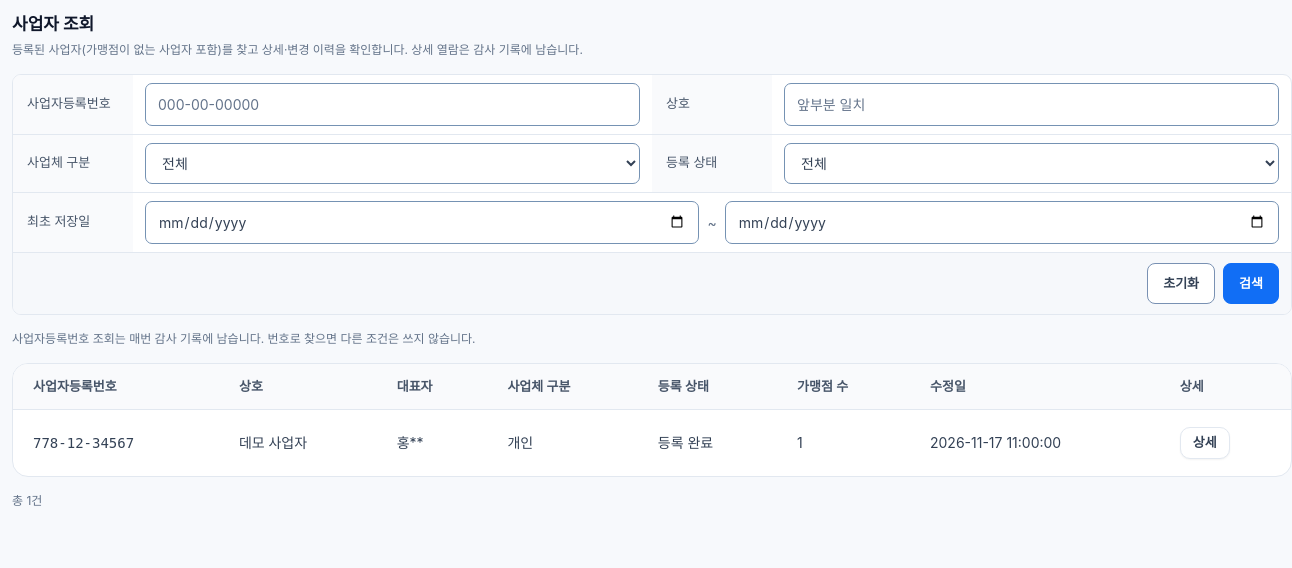
Scenario: MERCHANT-IA-001 B2 — 사업자 목록 › ⑦ 번호 조회 결과: 사업자등록번호·상호·등록 상태·상세 4열만, "—" 칸 없음; 0건은 같은 4열 빈 행; 번호는 번호 조회 요청에만
Expected: the table named "사업자 목록" is shown, [13, 364, 1291, 476]
Click the field labelled "사업자등록번호" at (392, 104), box [145, 82, 640, 126]
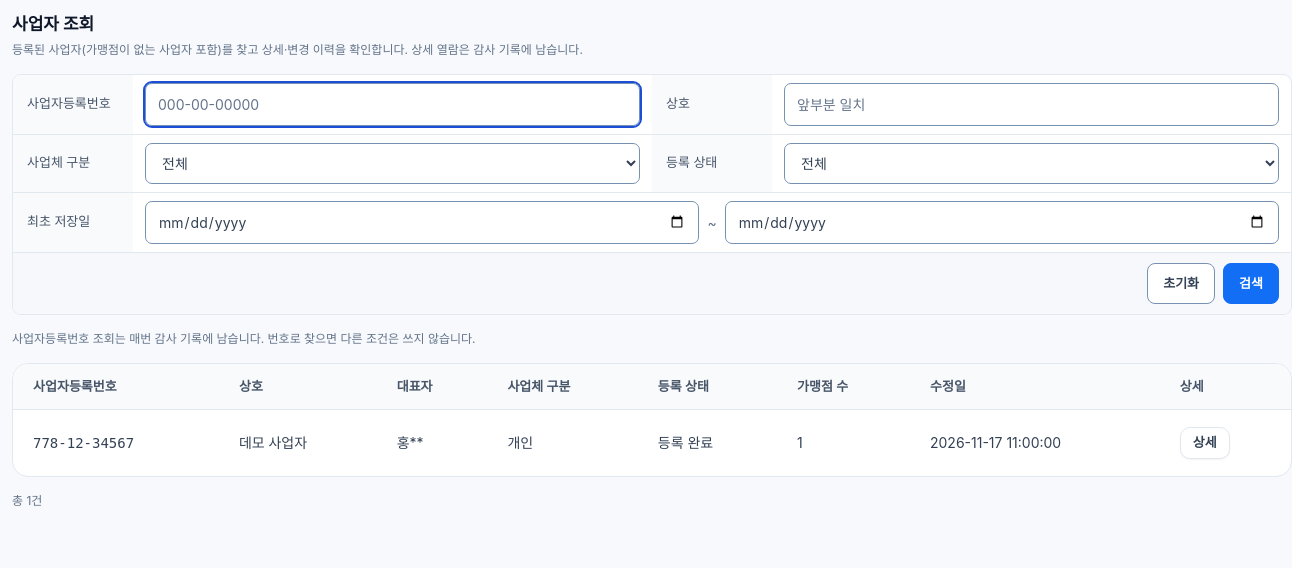
Type keys "7781234560"
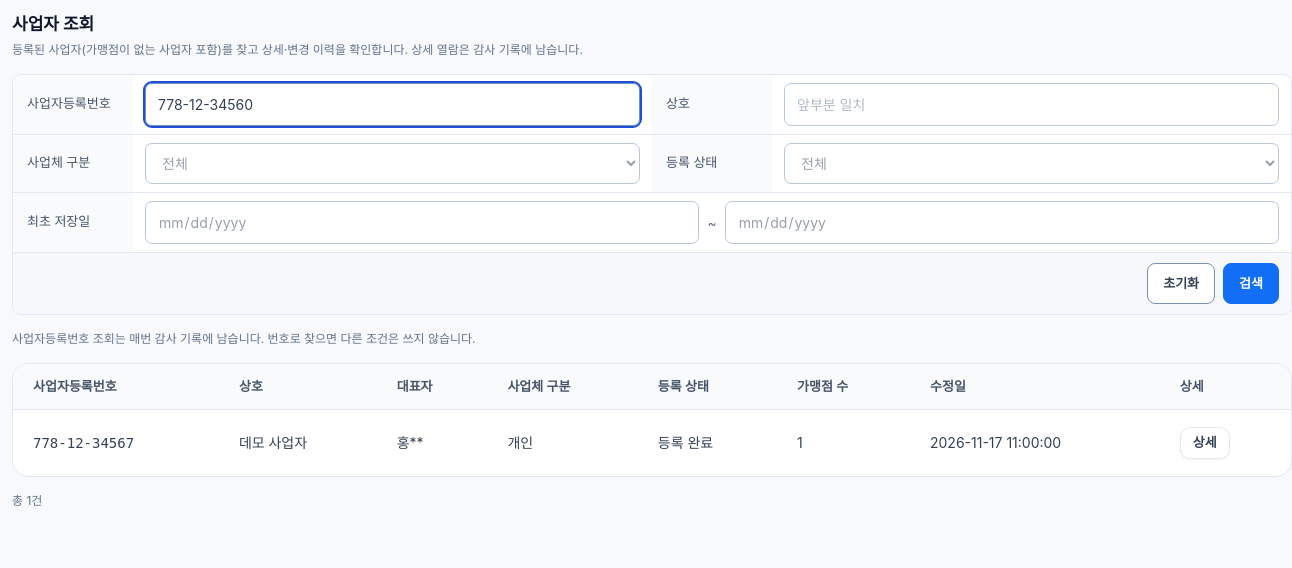
Click the button "검색" at (1251, 283), box [1223, 262, 1279, 304]
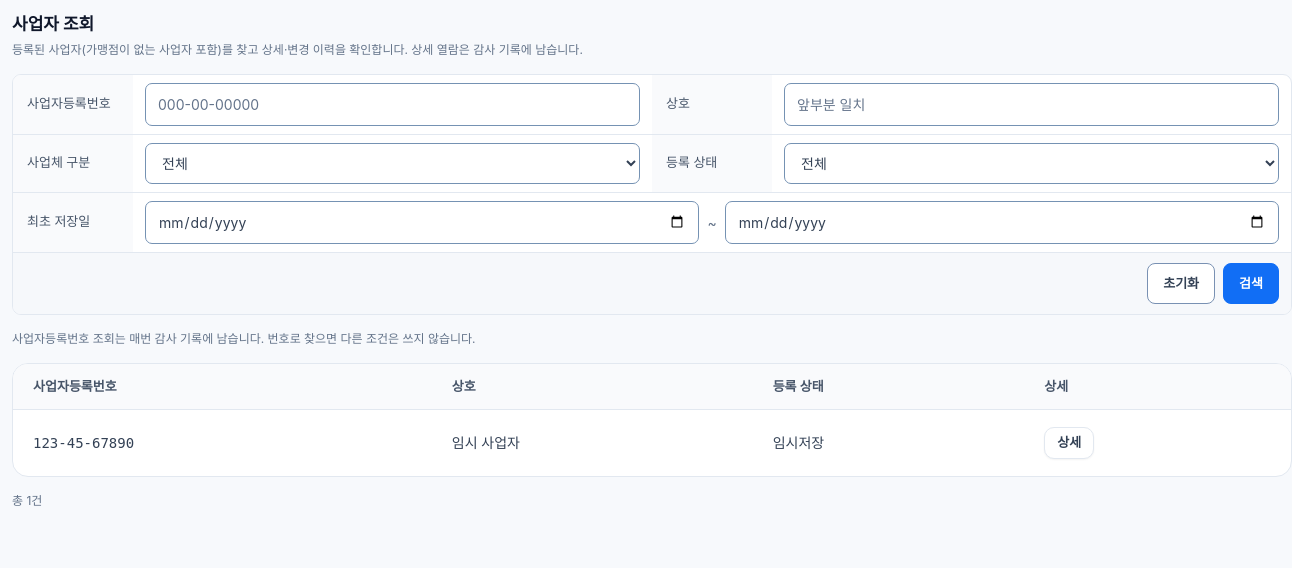
Expected: the table named "사업자 목록" does not show "—", [13, 364, 1291, 476]
Now the cells read "123-45-67890", "임시 사업자", "임시저장", "상세", in this order, box [13, 409, 432, 476]; [432, 409, 753, 476]; [753, 409, 1024, 476]; [1024, 409, 1291, 476]
Now the button with aria-label "임시 사업자 상세" is shown, box [1044, 427, 1094, 459]
Click the field labelled "사업자등록번호" at (392, 104), box [145, 82, 640, 126]
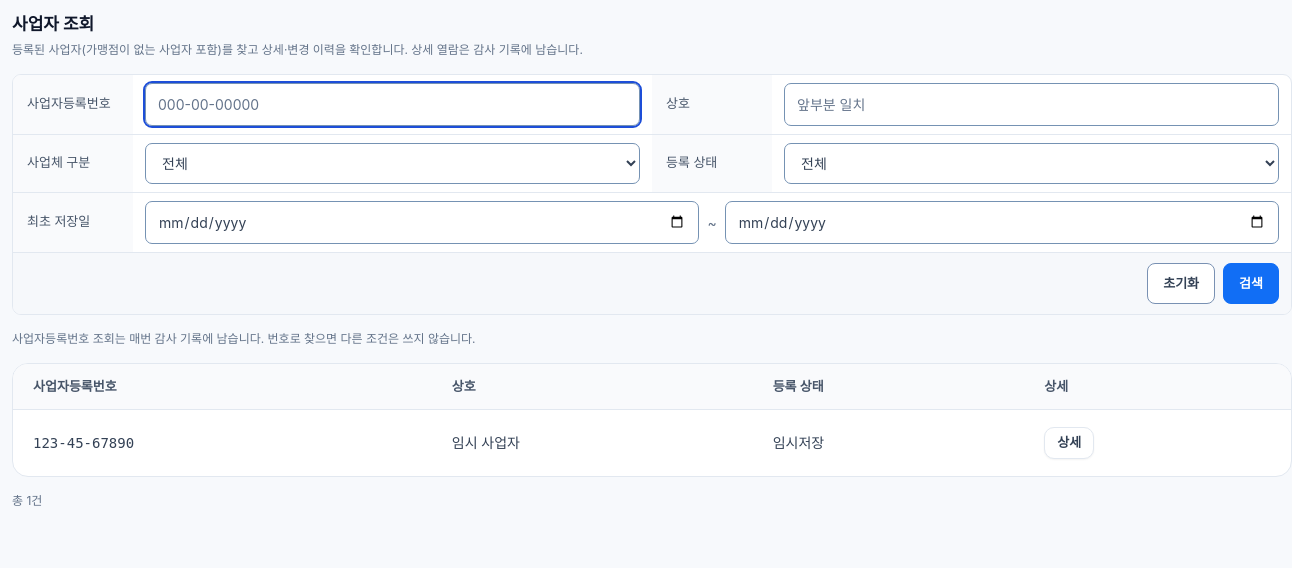
Type keys "7781234560"
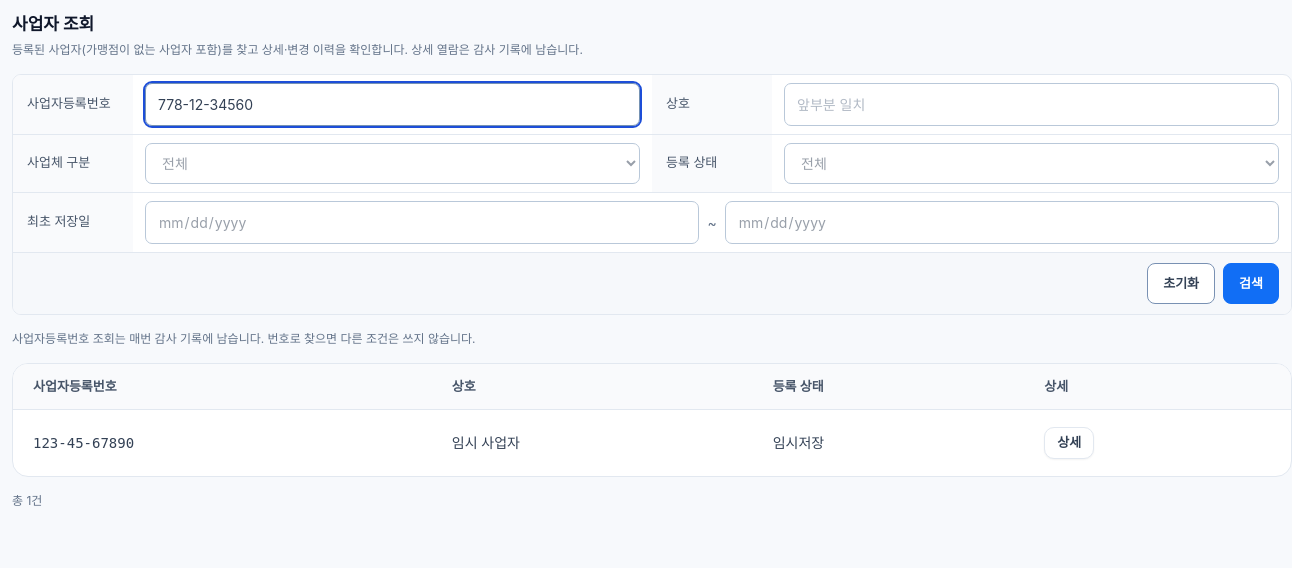
Click the button "검색" at (1251, 283), box [1223, 262, 1279, 304]
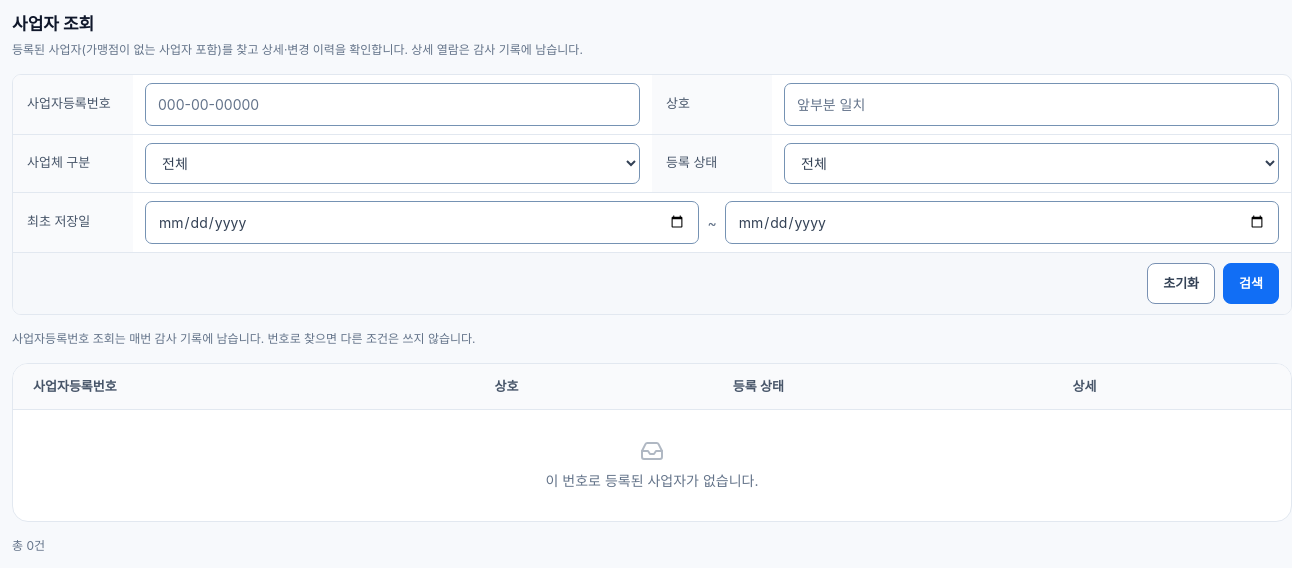
Now the text "이 번호로 등록된 사업자가 없습니다." is shown, box [546, 439, 758, 489]
